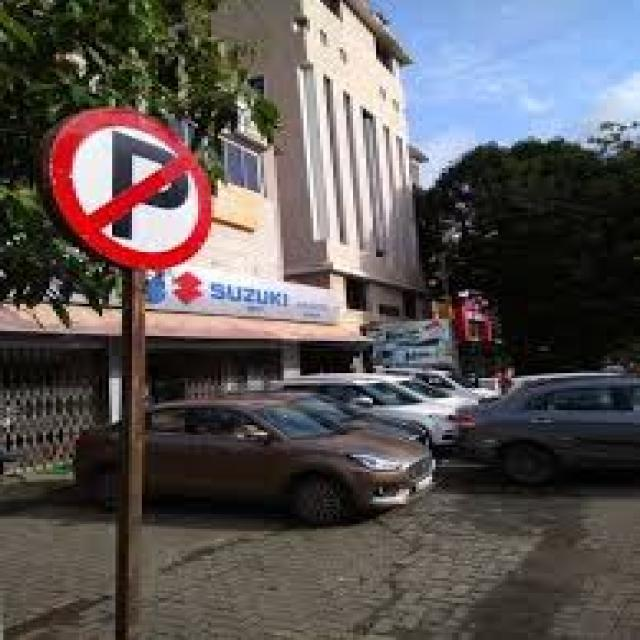no parking: (50, 107, 213, 271)
